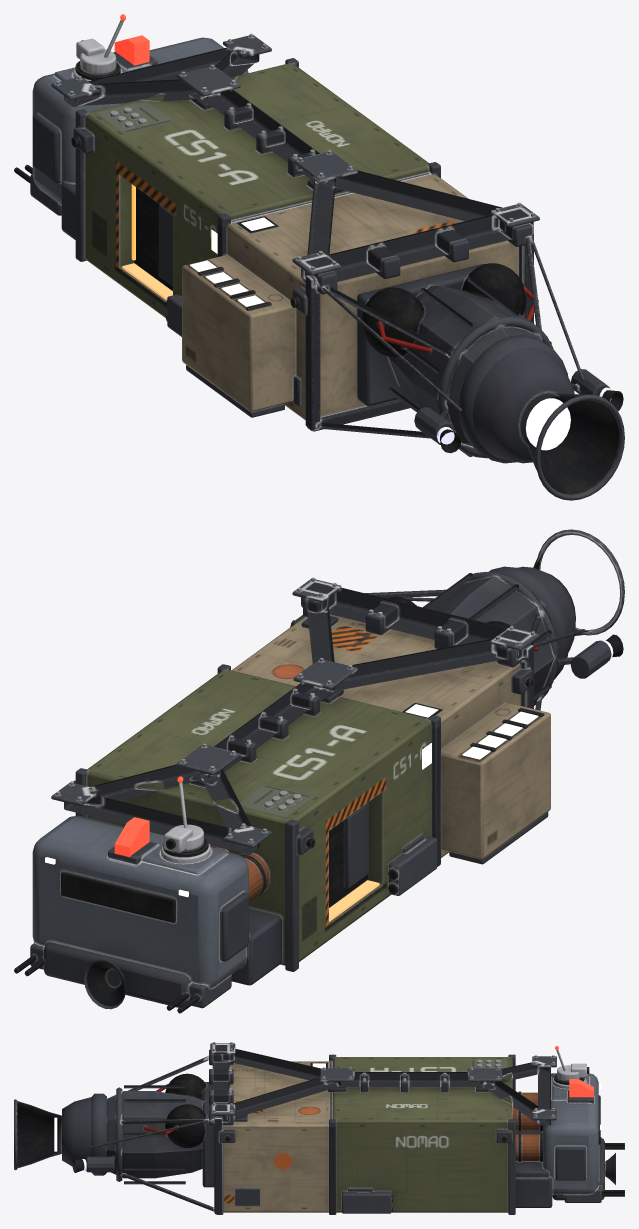
The model's file is nomad_cs1a.glb.
The picture shows the model from 3 angles, top to bottom: view 1: azimuth 30°, elevation 25°; view 2: azimuth 150°, elevation 25°; view 3: azimuth 270°, elevation 25°; orthographic projection. The views are drawn at different scales.
Parts seen in each view (by area): view 1: Hull, Glow; view 2: Hull, Glow; view 3: Hull, Glow.
Part boxes in pixels (box(x1,y1,x2,y2)): Hull: box(14, 20, 624, 500); Glow: box(114, 14, 611, 450); Hull: box(14, 529, 624, 1013); Glow: box(45, 641, 613, 921); Hull: box(14, 1042, 624, 1214); Glow: box(54, 1046, 601, 1170).
Bounding box in the file's own units: 6.37 × 4.62 × 19.75.
Materials: 8 (1 with a texture image).
